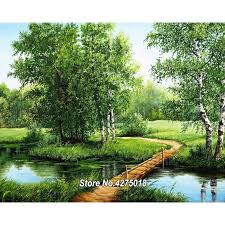tree: (22, 29, 131, 149), (166, 25, 225, 161)
